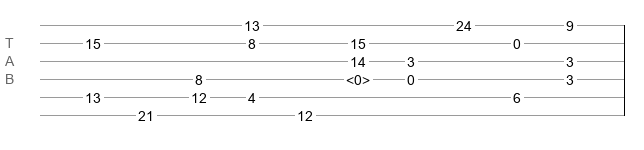0: (407, 72, 415, 82), (513, 36, 521, 46)
12: (191, 90, 207, 100), (297, 108, 313, 118)
13: (85, 90, 101, 100), (244, 18, 260, 28)
14: (350, 54, 366, 64)
15: (85, 36, 101, 46), (350, 36, 366, 46)
21: (138, 108, 154, 118)
24: (456, 18, 472, 28)
3: (407, 54, 415, 64), (566, 54, 574, 64), (566, 72, 574, 82)
4: (248, 90, 256, 100)
6: (513, 90, 521, 100)
8: (195, 72, 203, 82), (248, 36, 256, 46)
9: (566, 18, 574, 28)
harmonic: (346, 72, 370, 82)
